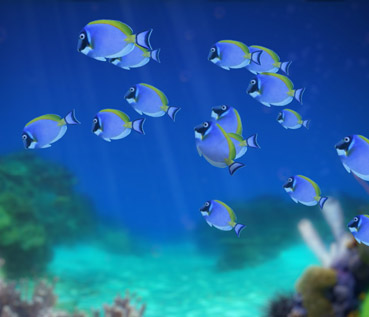fish: (68, 19, 158, 65), (14, 108, 86, 154), (185, 119, 239, 176), (87, 105, 150, 151), (121, 79, 182, 124), (191, 195, 249, 242), (279, 169, 335, 217), (241, 72, 307, 112), (201, 33, 253, 73), (241, 44, 306, 74), (332, 131, 369, 169), (273, 107, 312, 132), (344, 213, 369, 237)
